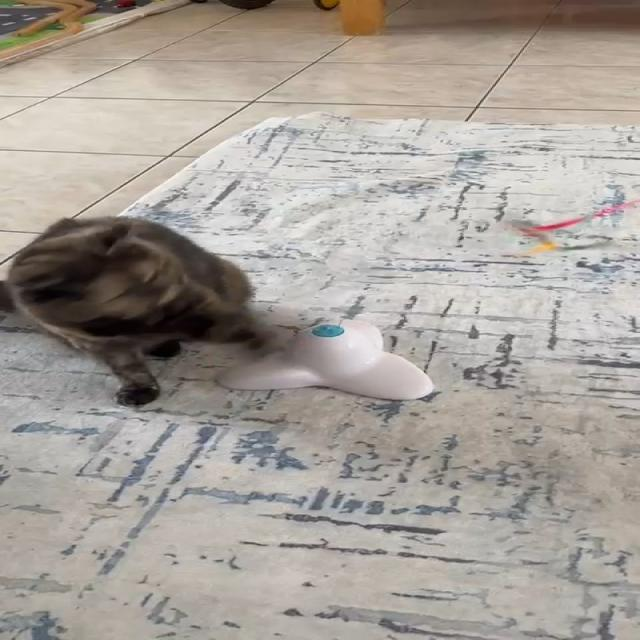authorized: (1, 214, 271, 407)
